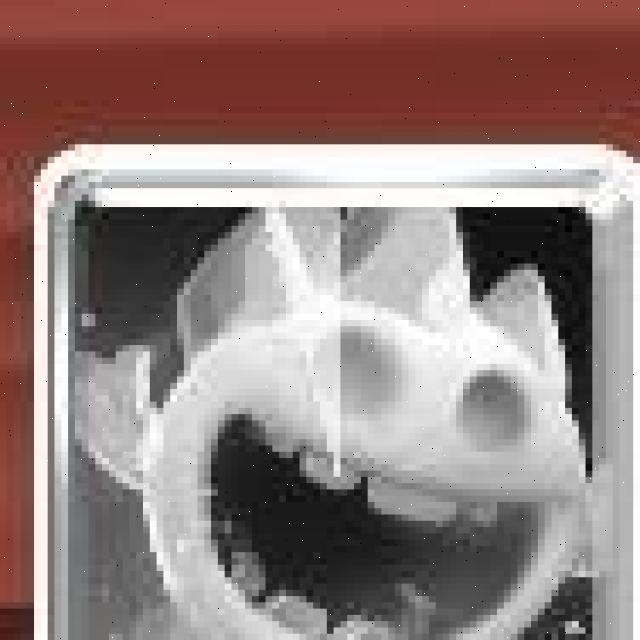Ice_Spirit: (38, 140, 640, 640)
